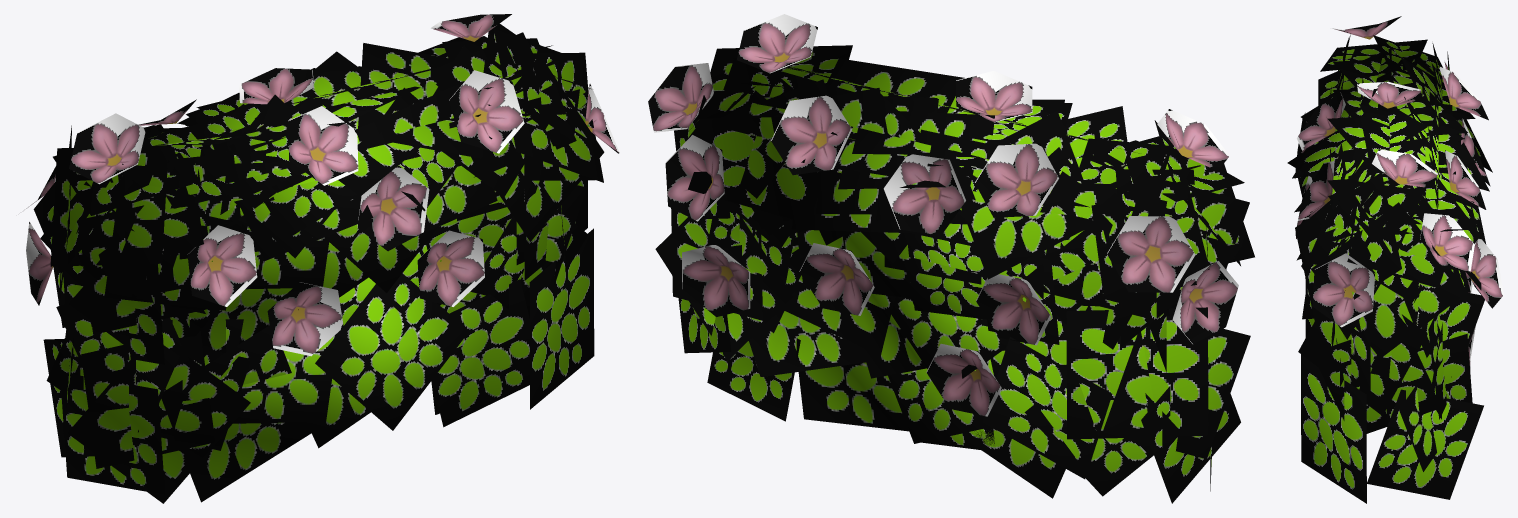
Rendered from q_Bush_Large_Flowers.glb.
3 views of the same model, side by side, from view 1: azimuth 30°, elevation 25°; view 2: azimuth 150°, elevation 25°; view 3: azimuth 270°, elevation 25° (orthographic). The views are drawn at different scales.
Parts seen in each view (by area): view 1: Bush_Large_Flowers_Plane.029; view 2: Bush_Large_Flowers_Plane.029; view 3: Bush_Large_Flowers_Plane.029.
Boxes of the visible parts, box(x1,y1,x2,y2) form: Bush_Large_Flowers_Plane.029: box(26, 14, 619, 503); Bush_Large_Flowers_Plane.029: box(648, 14, 1254, 503); Bush_Large_Flowers_Plane.029: box(1287, 16, 1503, 503).
Bounding box in the file's own units: 1.93 × 1.26 × 0.7617.
2 materials, 2 textured.
